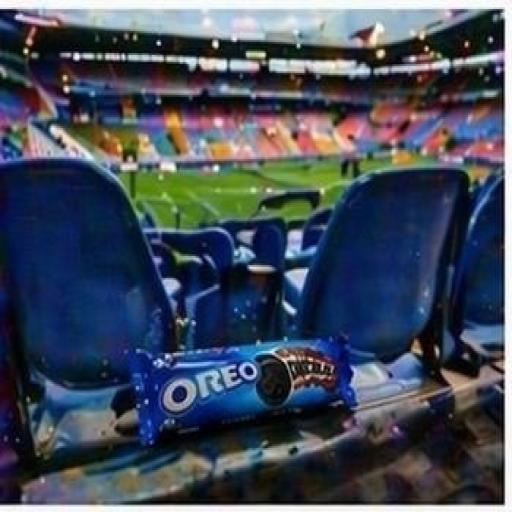oreo: (100, 279, 390, 471)
